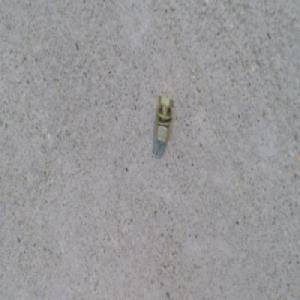BoltNutSet: (153, 96, 176, 144)
